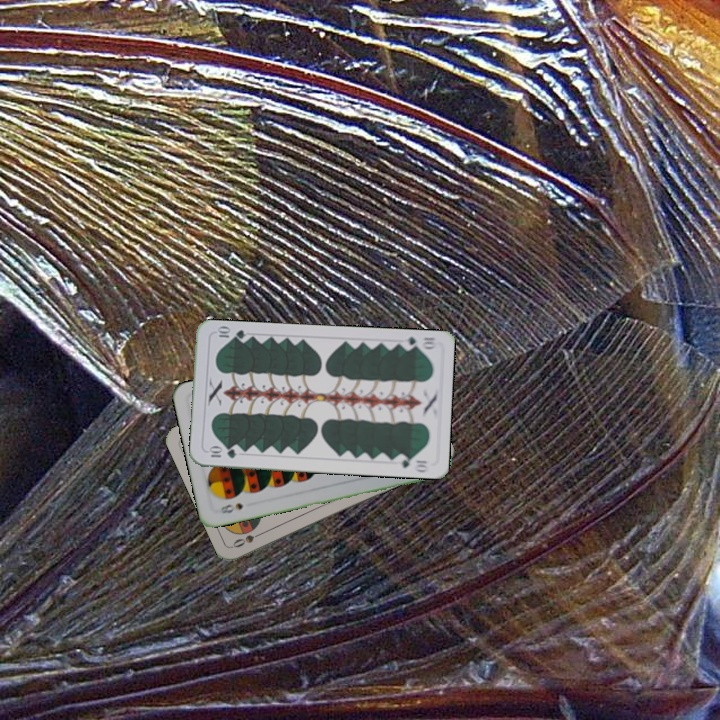G10: (398, 333, 438, 353), (204, 444, 239, 461)
S8: (213, 499, 245, 516)
SO: (229, 527, 268, 550)
